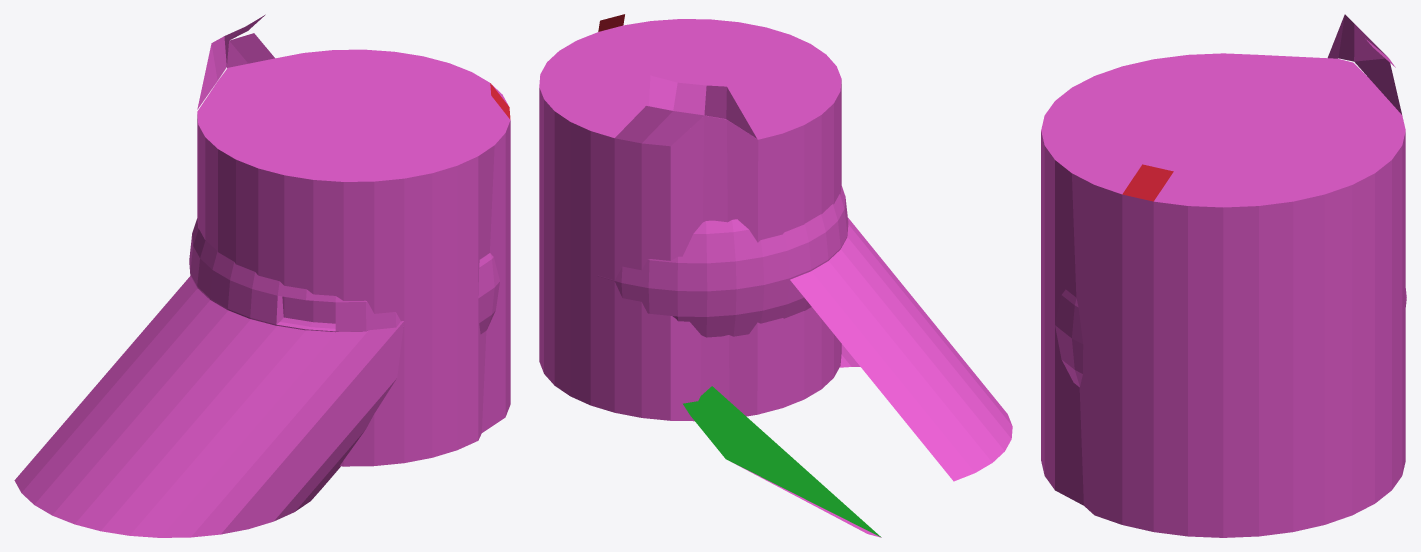
Rendered from componentTest.glb.
3 views of the same model, side by side, from view 1: azimuth 30°, elevation 25°; view 2: azimuth 150°, elevation 25°; view 3: azimuth 270°, elevation 25° (orthographic). The views are drawn at different scales.
Visible parts, largest first — view 1: Cylinder; view 2: Cylinder; view 3: Cylinder.
Boxes of the visible parts, x1,y1,x2,y2 form: Cylinder: (14,14,510,537); Cylinder: (539,14,1012,537); Cylinder: (1041,14,1406,537).
Bounding box in the file's own units: 3.33 × 3.08 × 2.01.
